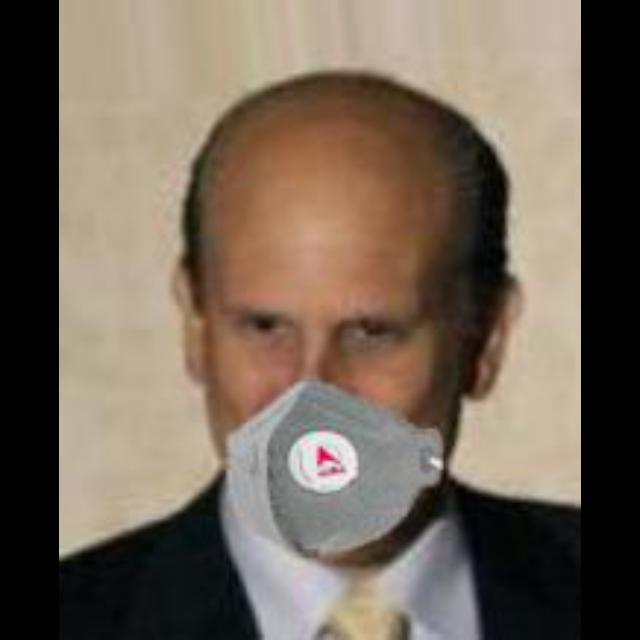suspicion: (161, 56, 501, 554)
